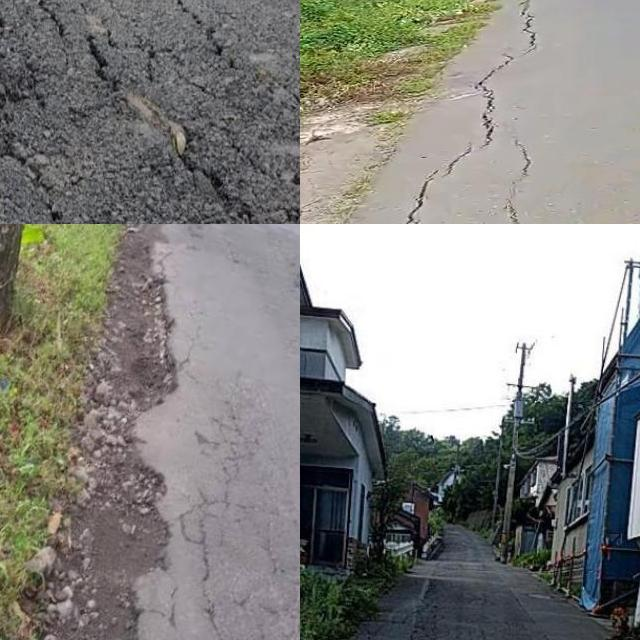Memanjang: (367, 0, 580, 224)
Pinggir: (0, 224, 187, 640)
